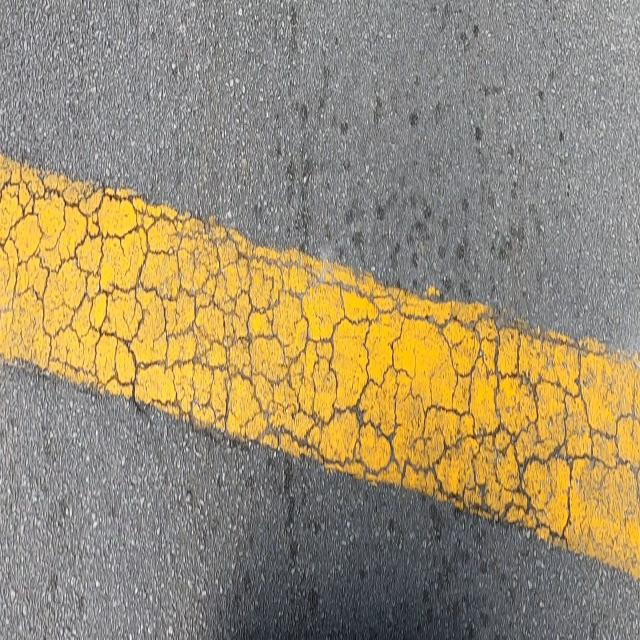Retak-Buaya: (0, 161, 640, 549)
